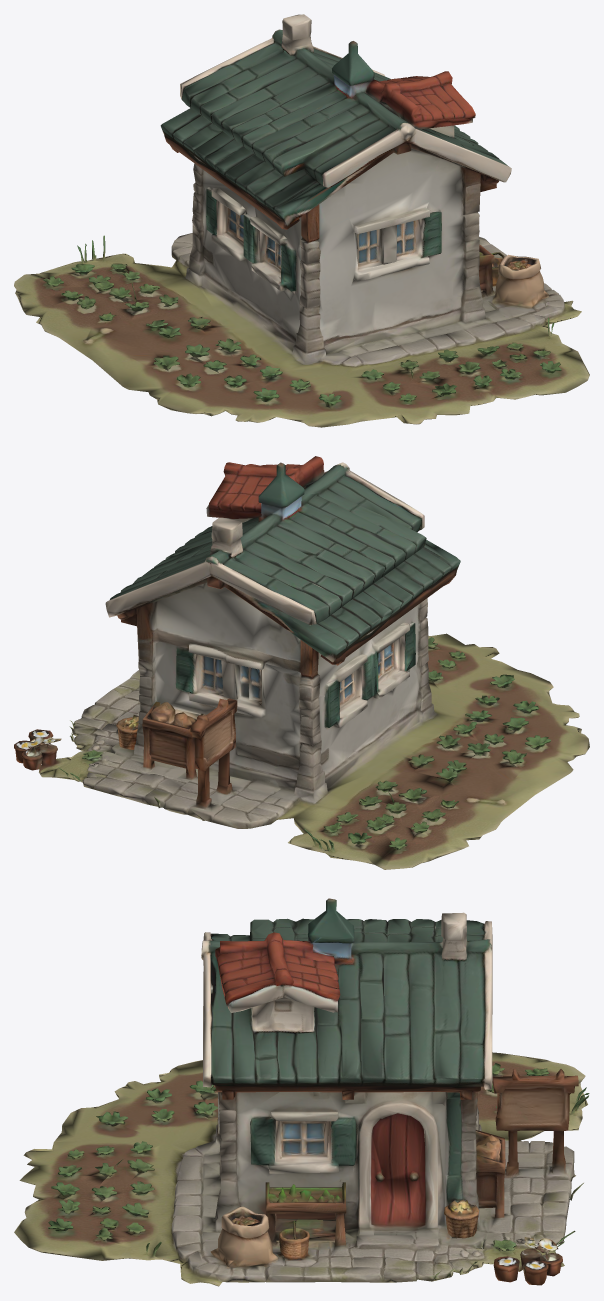
Rendered from bld_market.glb.
3 views of the same model, one above another, from view 1: azimuth 30°, elevation 25°; view 2: azimuth 150°, elevation 25°; view 3: azimuth 270°, elevation 25° (orthographic). The views are drawn at different scales.
Parts seen in each view (by area): view 1: tripo_node_3afc28d9-194d-4f07-9cdd-bd9d8b94c7dc; view 2: tripo_node_3afc28d9-194d-4f07-9cdd-bd9d8b94c7dc; view 3: tripo_node_3afc28d9-194d-4f07-9cdd-bd9d8b94c7dc.
Boxes of the visible parts, left/top/right/bottom form: tripo_node_3afc28d9-194d-4f07-9cdd-bd9d8b94c7dc: left=14, top=14, right=589, bottom=427; tripo_node_3afc28d9-194d-4f07-9cdd-bd9d8b94c7dc: left=14, top=456, right=589, bottom=869; tripo_node_3afc28d9-194d-4f07-9cdd-bd9d8b94c7dc: left=14, top=898, right=589, bottom=1286.
Size of the model in its own units: 0.962 by 0.5657 by 0.9971.
Materials: 1 (1 with a texture image).
